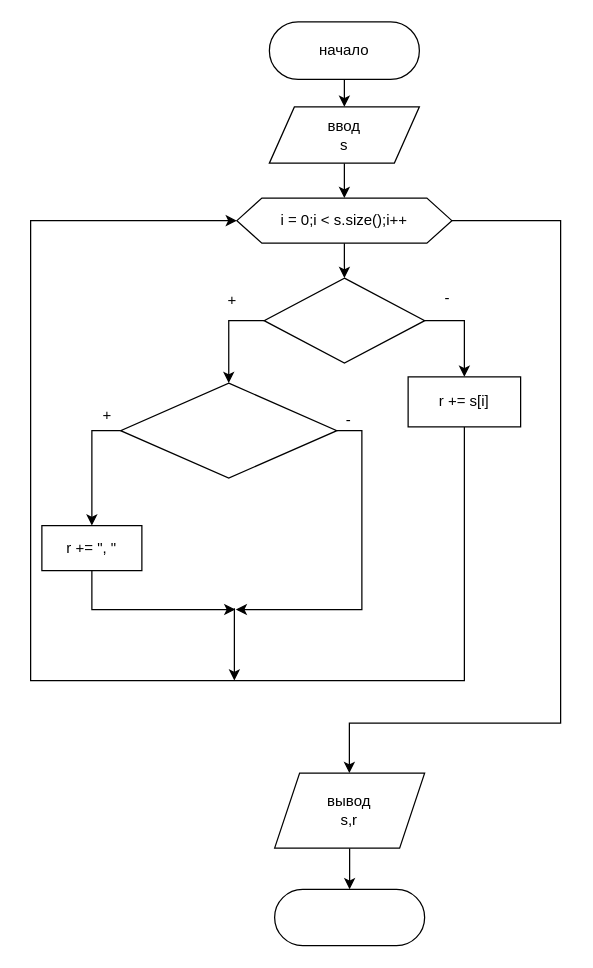
This 593x968 diagram has some shape labels left out. Here are the shapes that lost their labels. From the top down, the centre of each, then its label:
(344,320): s[i] == ' '
(228,430): (s[i + 1] != ' ') && (i + 1 != s.size())
(349,917): конец
